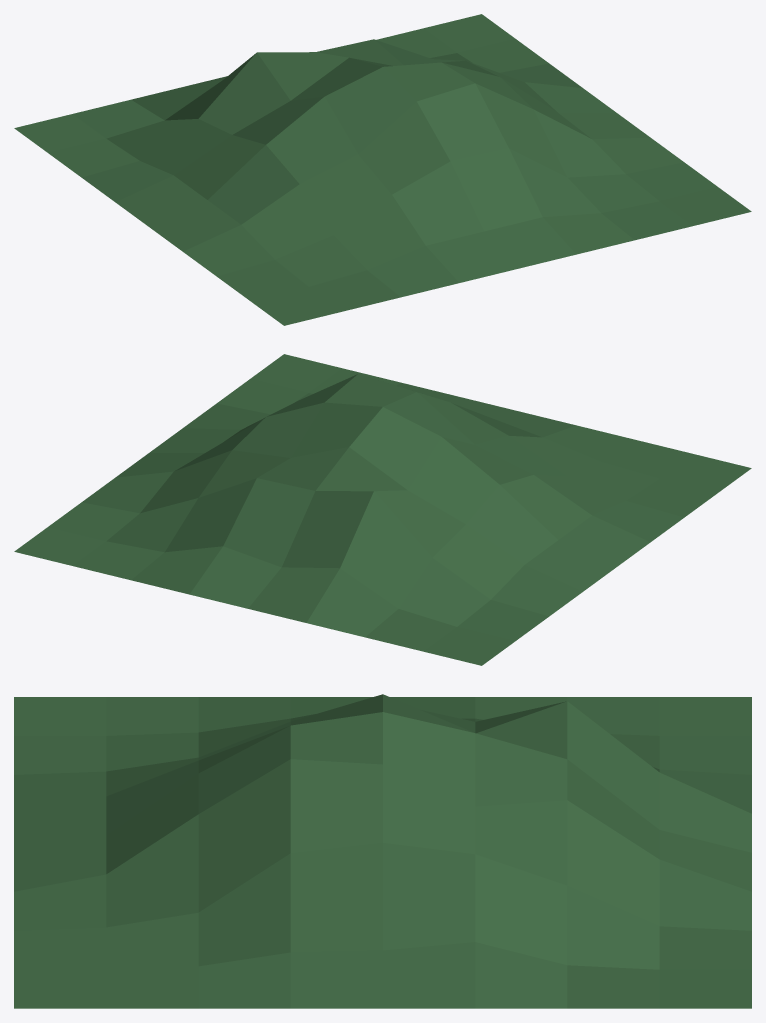
File: Terrain_21_Light_Green.fbx
3 views of the same model, one above another, from view 1: azimuth 30°, elevation 25°; view 2: azimuth 150°, elevation 25°; view 3: azimuth 270°, elevation 25° (orthographic). The views are drawn at different scales.
Visible parts, largest first — view 1: Terrain_21_Light_Green; view 2: Terrain_21_Light_Green; view 3: Terrain_21_Light_Green.
Part boxes in pixels (x1=…): Terrain_21_Light_Green: x1=14, y1=14, x2=751, y2=325; Terrain_21_Light_Green: x1=14, y1=354, x2=751, y2=665; Terrain_21_Light_Green: x1=14, y1=694, x2=751, y2=1008.
Size of the model in its own units: 10000 by 2106 by 10000.
